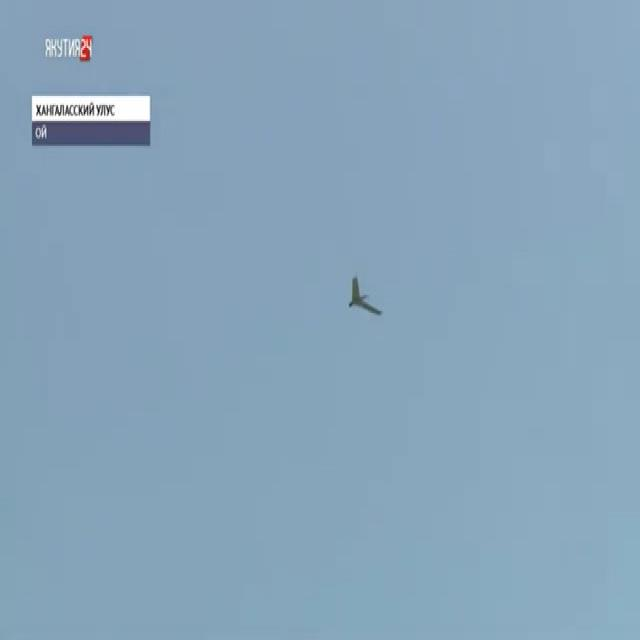drone: (338, 255, 390, 332)
